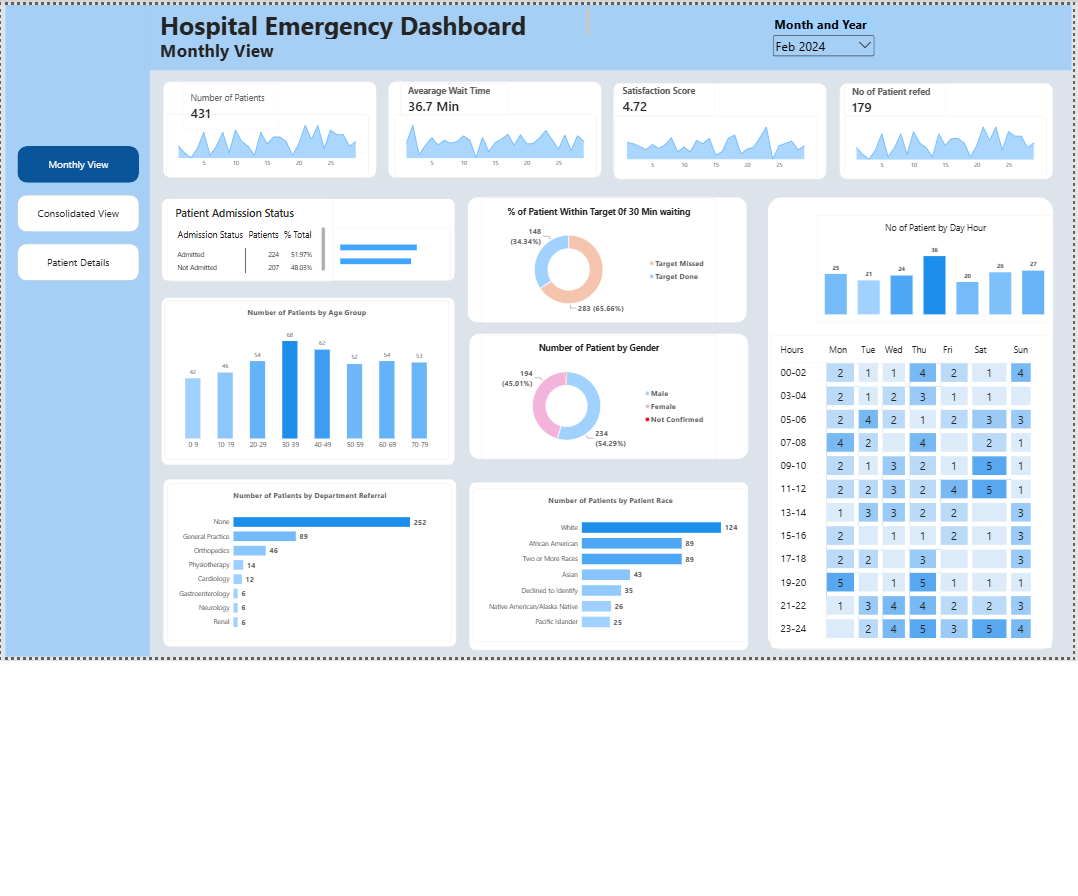

The dashboard page shown, as its layout file describes it:
{"tool":"powerbi","page":{"name":"Monthly View","canvas":[2300,1400],"ordinal":0},"visuals":[{"type":"shape","box":[10.2,0,310,1399],"z":0},{"type":"shape","box":[319.2,0,1979.7,140],"z":1000},{"type":"textbox","box":[343,6.8,923.6,64.5],"z":2000},{"type":"textbox","box":[343,71.3,278.4,67.9],"z":3000},{"type":"shape","box":[346.4,163,458.4,207.1],"z":4000},{"type":"cardVisual","title":"No of Patient ","fields":{"Data":["Meaures.Number of Patients"]},"box":[388.9,166.7,208.3,100],"z":5000},{"type":"slicer","fields":{"Values":["DateTable.Month and Year"]},"box":[1653.7,23.8,227.5,91.7],"z":6000},{"type":"areaChart","fields":{"Category":["DateTable.Date.Variation.Date Hierarchy.Day"],"Y":["Meaures.Number of Patients"]},"box":[355.8,234.9,435,135],"z":7000},{"type":"shape","box":[831,162.7,458.4,207.1],"z":8000},{"type":"cardVisual","fields":{"Data":["Meaures.Avearage Wait Time"]},"box":[858.3,166.7,233.3,72.9],"z":9000},{"type":"areaChart","fields":{"Category":["DateTable.Date.Variation.Date Hierarchy.Day"],"Y":["Avg(Hospital ER_Data.Patient Waittime)"]},"box":[842.7,234.6,435,135],"z":10000},{"type":"shape","box":[1315.6,167.6,458.4,207.1],"z":11000},{"type":"cardVisual","fields":{"Data":["Meaures.Satisfaction Score"]},"box":[1318.8,168.8,216.7,70.8],"z":12000},{"type":"areaChart","fields":{"Category":["DateTable.Date.Variation.Date Hierarchy.Day"],"Y":["Sum(Hospital ER_Data.Patient Satisfaction Score)"]},"box":[1317.7,239.5,435,135],"z":13000},{"type":"shape","box":[1800.3,167.4,458.4,207.1],"z":14000},{"type":"cardVisual","fields":{"Data":["Meaures.No of Patient refed"]},"box":[1810.4,170.8,218.8,68.8],"z":15000},{"type":"areaChart","fields":{"Category":["DateTable.Date.Variation.Date Hierarchy.Day"],"Y":["Meaures.Number of Patients"]},"box":[1810.4,239.6,435,135],"z":16000},{"type":"shape","box":[343.8,414.6,630,177],"z":17000},{"type":"pivotTable","title":"Patient Admission Status","fields":{"Rows":["Hospital ER_Data.Admission Status"],"Values":["Meaures.Number of Patients1","Meaures.Number of Patients"]},"box":[356.2,414.6,356.2,177.1],"z":18000},{"type":"barChart","fields":{"Category":["Hospital ER_Data.Admission Status"],"Y":["Meaures.Number of Patients"]},"box":[712.5,477.1,254.2,114.6],"z":19000},{"type":"shape","box":[343.8,627.1,630,360],"z":20000},{"type":"clusteredColumnChart","fields":{"Category":["Hospital ER_Data.Age Group"],"Y":["Meaures.Number of Patients"]},"box":[352.1,635.4,610.4,341.7],"z":21000},{"type":"shape","box":[347.5,1017.5,630,360],"z":22000},{"type":"clusteredBarChart","fields":{"Category":["Hospital ER_Data.Department Referral"],"Y":["Meaures.Number of Patients"]},"box":[356.4,1028.2,610.3,338.5],"z":23000},{"type":"shape","box":[1002.6,412.8,600,270],"z":24000},{"type":"donutChart","title":"% of Patient Within Target 0f 30 Min waiting","fields":{"Category":["Hospital ER_Data.Wait Time Status"],"Y":["Meaures.Number of Patients"]},"box":[1030.8,415.4,505.1,266.7],"z":25000},{"type":"shape","box":[1004,706.6,600,270],"z":26000},{"type":"donutChart","title":"Number of Patient by Gender","fields":{"Category":["Hospital ER_Data.Patient Gender"],"Y":["Meaures.Number of Patients"]},"box":[1032.2,709.1,505.1,266.7],"z":27000},{"type":"shape","box":[1005.1,1023.1,600,361.5],"z":28000},{"type":"clusteredBarChart","fields":{"Category":["Hospital ER_Data.Patient Race"],"Y":["Meaures.Number of Patients"]},"box":[1015.4,1035.9,587.2,330.8],"z":29000},{"type":"shape","box":[1644.8,413.8,613.8,972.4],"z":30000},{"type":"pivotTable","fields":{"Columns":["DateTable.Day Name"],"Rows":["Hospital ER_Data.Waiting Interval"],"Values":["Meaures.No of Patient refed"]},"box":[1653.7,709.8,604.9,673.2],"z":31000},{"type":"columnChart","title":"No of Patient by Day Hour","fields":{"Category":["DateTable.Day Name"],"Y":["Meaures.No of Patient refed"]},"box":[1751.2,451.2,507.3,231.7],"z":32000},{"type":"pageNavigator","box":[35.5,303.2,261.3,290.3],"z":32001}]}

Visuals, with their boxes on the page's 2300x1400 design canvas (x1, y1, x2, y2). These are canvas units, not pixel positions in the 1078x896 screenshot, which may show the page scaled, cropped or inside an application window:
shape: x1=10 y1=0 x2=320 y2=1399
shape: x1=319 y1=0 x2=2299 y2=140
textbox: x1=343 y1=7 x2=1267 y2=71
textbox: x1=343 y1=71 x2=621 y2=139
shape: x1=346 y1=163 x2=805 y2=370
"No of Patient " cardVisual: x1=389 y1=167 x2=597 y2=267
slicer - DateTable.Month and Year: x1=1654 y1=24 x2=1881 y2=116
areaChart - DateTable.Date.Variation.Date Hierarchy.Day x Meaures.Number of Patients: x1=356 y1=235 x2=791 y2=370
shape: x1=831 y1=163 x2=1289 y2=370
cardVisual - Meaures.Avearage Wait Time: x1=858 y1=167 x2=1092 y2=240
areaChart - DateTable.Date.Variation.Date Hierarchy.Day x Avg(Hospital ER_Data.Patient Waittime): x1=843 y1=235 x2=1278 y2=370
shape: x1=1316 y1=168 x2=1774 y2=375
cardVisual - Meaures.Satisfaction Score: x1=1319 y1=169 x2=1536 y2=240
areaChart - DateTable.Date.Variation.Date Hierarchy.Day x Sum(Hospital ER_Data.Patient Satisfaction Score): x1=1318 y1=240 x2=1753 y2=374
shape: x1=1800 y1=167 x2=2259 y2=374
cardVisual - Meaures.No of Patient refed: x1=1810 y1=171 x2=2029 y2=240
areaChart - DateTable.Date.Variation.Date Hierarchy.Day x Meaures.Number of Patients: x1=1810 y1=240 x2=2245 y2=375
shape: x1=344 y1=415 x2=974 y2=592
"Patient Admission Status" pivotTable: x1=356 y1=415 x2=712 y2=592
barChart - Hospital ER_Data.Admission Status x Meaures.Number of Patients: x1=712 y1=477 x2=967 y2=592
shape: x1=344 y1=627 x2=974 y2=987
clusteredColumnChart - Hospital ER_Data.Age Group x Meaures.Number of Patients: x1=352 y1=635 x2=962 y2=977
shape: x1=348 y1=1018 x2=978 y2=1378
clusteredBarChart - Hospital ER_Data.Department Referral x Meaures.Number of Patients: x1=356 y1=1028 x2=967 y2=1367
shape: x1=1003 y1=413 x2=1603 y2=683
"% of Patient Within Target 0f 30 Min waiting" donutChart: x1=1031 y1=415 x2=1536 y2=682
shape: x1=1004 y1=707 x2=1604 y2=977
"Number of Patient by Gender" donutChart: x1=1032 y1=709 x2=1537 y2=976
shape: x1=1005 y1=1023 x2=1605 y2=1385
clusteredBarChart - Hospital ER_Data.Patient Race x Meaures.Number of Patients: x1=1015 y1=1036 x2=1603 y2=1367
shape: x1=1645 y1=414 x2=2259 y2=1386
pivotTable - DateTable.Day Name x Hospital ER_Data.Waiting Interval: x1=1654 y1=710 x2=2259 y2=1383
"No of Patient by Day Hour" columnChart: x1=1751 y1=451 x2=2258 y2=683
pageNavigator: x1=36 y1=303 x2=297 y2=594
